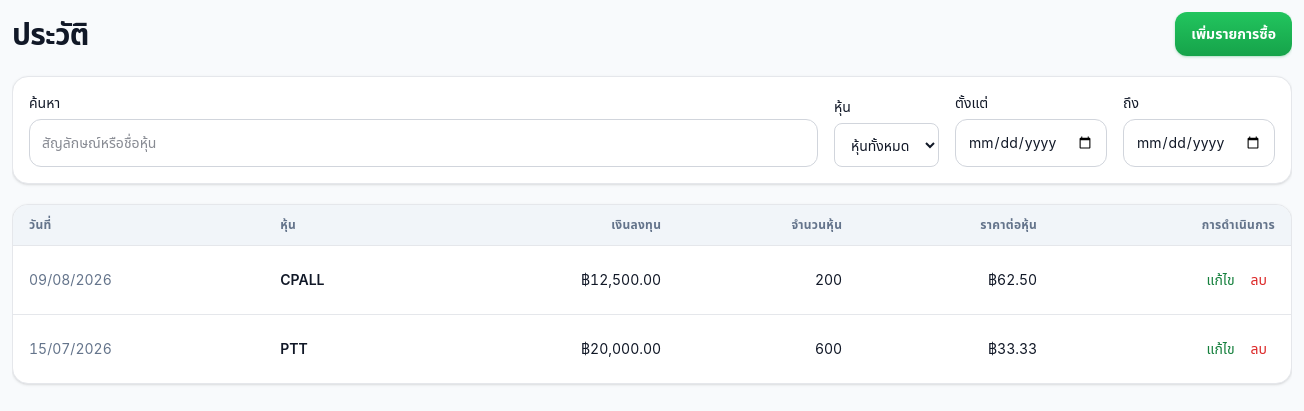
Test: HistoryPage › distinguishes no data from no match, and clears filters
This screenshot has width=1304, height=411.
expect the table is shown: met, box [13,205,1291,383]
Type "zzzz" into the search field labelled "ค้นหา" at (424, 143), box [42,133,805,153]
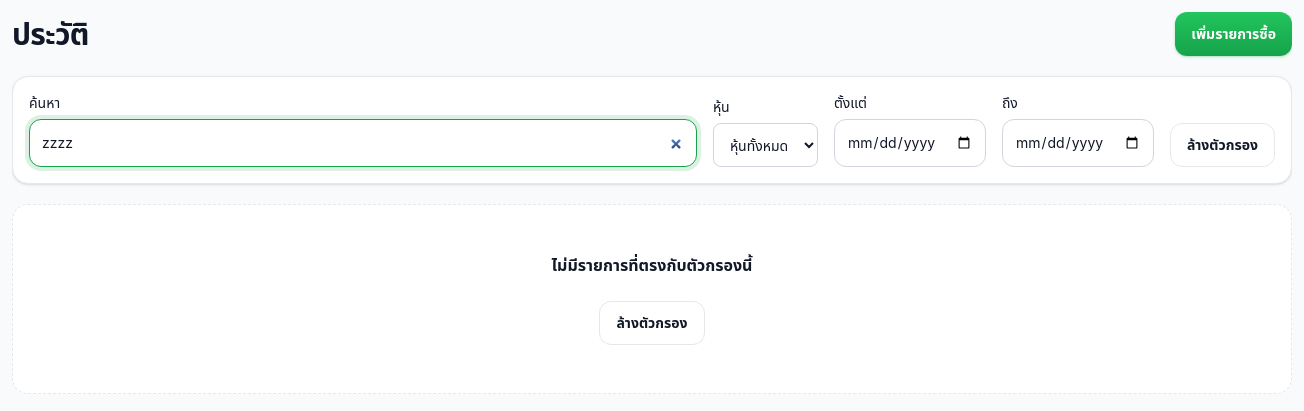
expect the text "ไม่มีรายการที่ตรงกับตัวกรองนี้" is shown: met, box [552,255,752,275]
Click the button "ล้างตัวกรอง" below "ถึง" at (1222, 145), box [1170,123,1275,167]
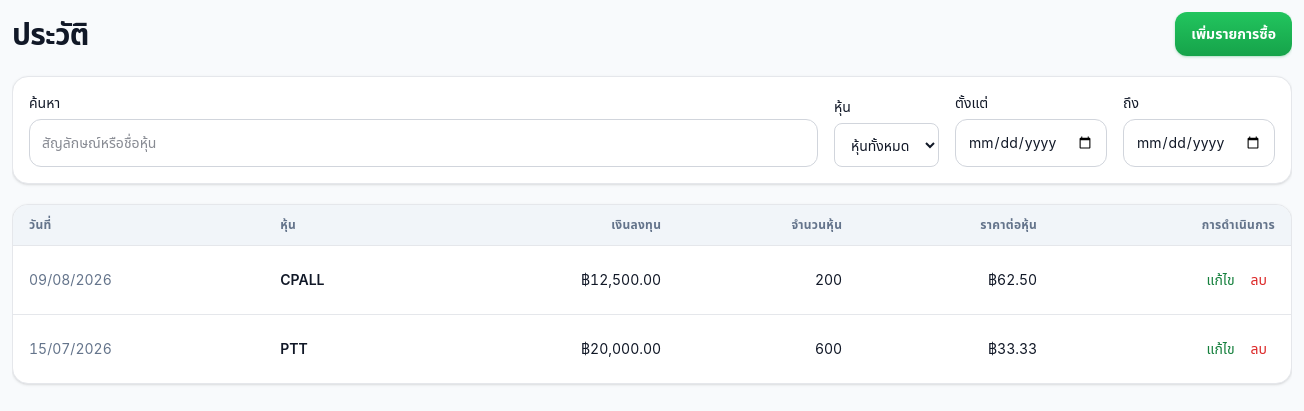
expect the table is shown: met, box [13,205,1291,383]
